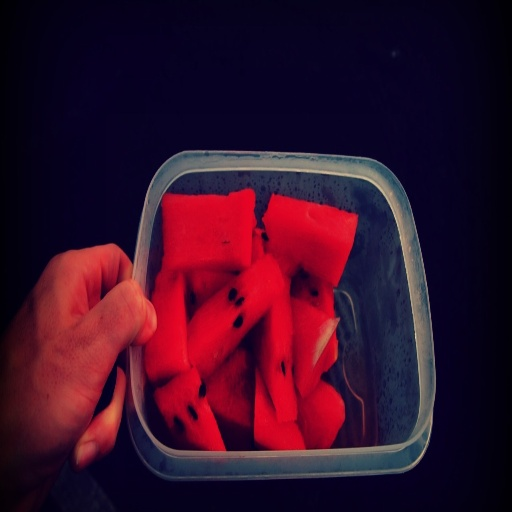hand: (0, 236, 148, 481)
